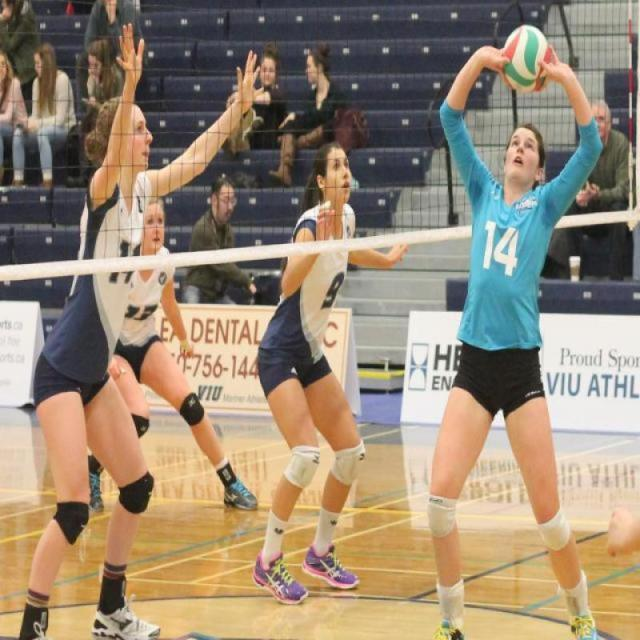volleyball: (500, 21, 554, 91)
